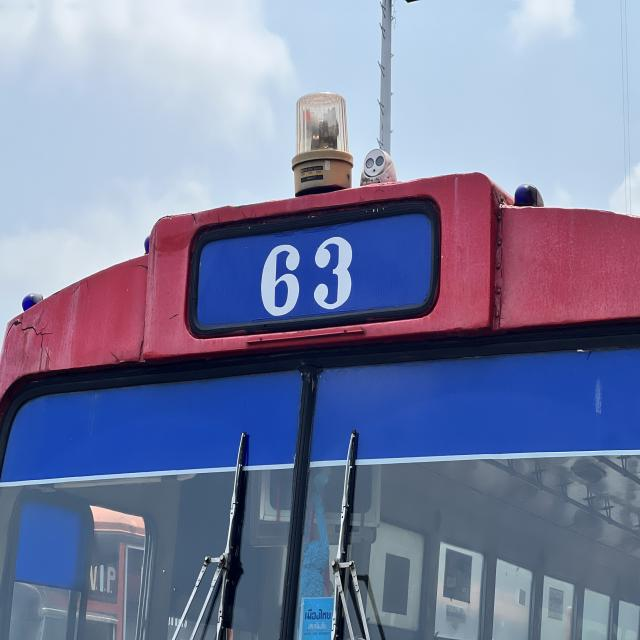BMTA-bus: (0, 93, 640, 640)
Bus-Line-Number: (188, 203, 441, 339)
